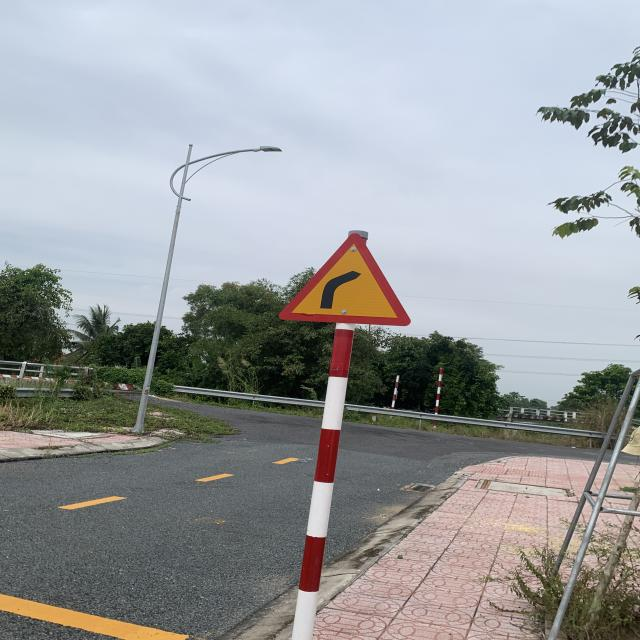Duong_Nguoi_Di_Bo_Cat_Ngang: (278, 232, 411, 327)
